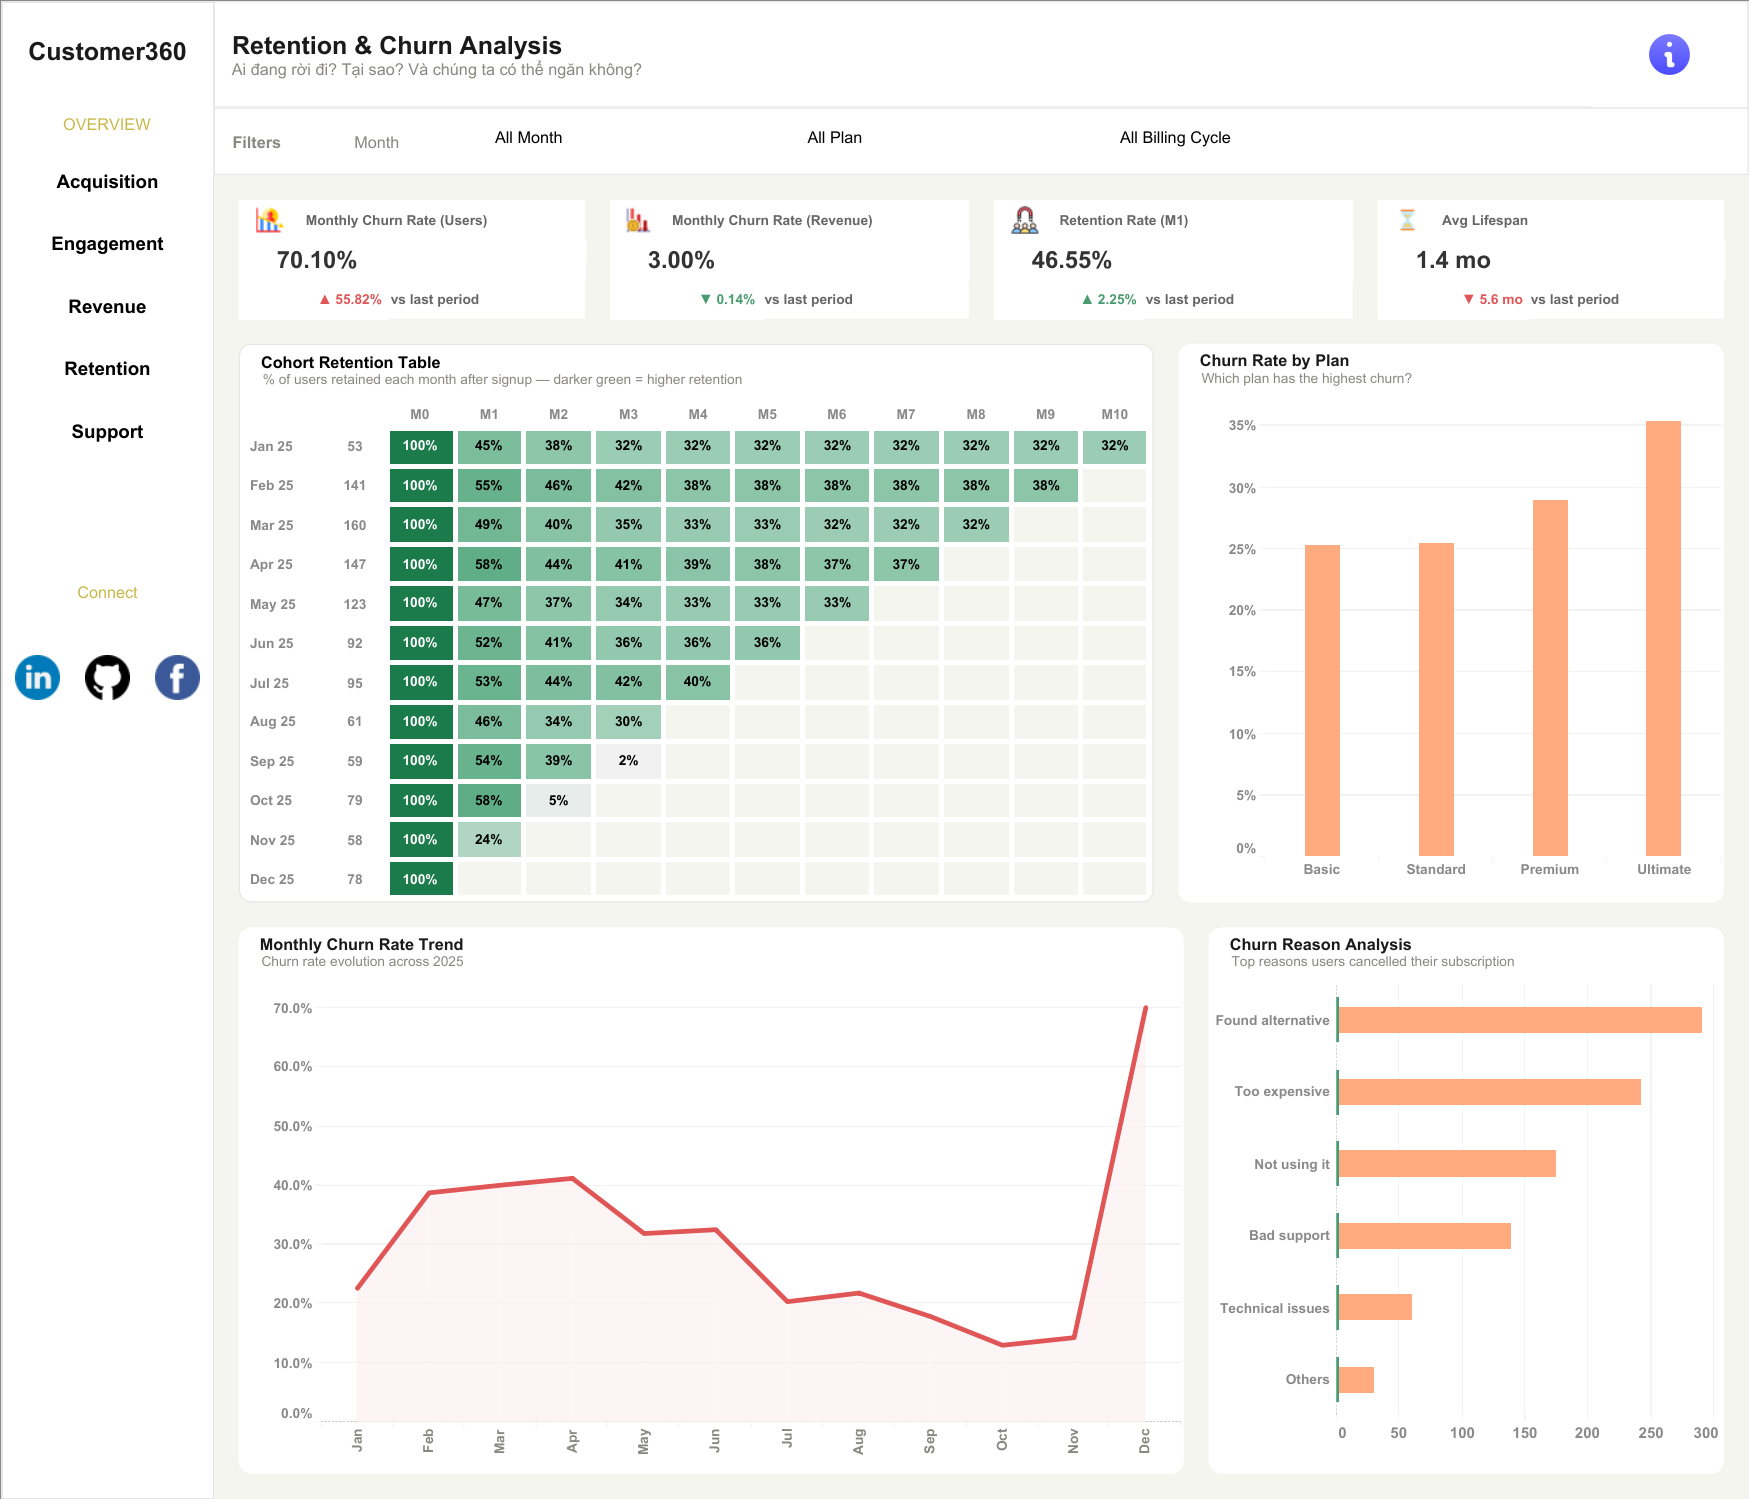

Layout of this report page (visuals, bound fields, positions):
{"tool":"tableau","page":{"name":"DB retention","canvas":[1400,1200],"ordinal":2},"visuals":[{"type":"text","box":[2,2,168,77]},{"type":"text","box":[172,2,1101,83]},{"type":"worksheet","title":"retention info","mark":"Shape","box":[1273,2,125,83]},{"type":"text","box":[2,79,168,41]},{"type":"text","box":[172,87,67,49]},{"type":"text","box":[239,87,125,49]},{"type":"parameter","param":"[Parameters].[Parameter 2]","box":[374,97,250,29]},{"type":"parameter","param":"[Parameters].[Parameter 8]","box":[624,97,250,29]},{"type":"parameter","param":"[Parameters].[Parameter 3]","box":[874,97,250,29]},{"type":"blank","box":[1124,97,264,29]},{"type":"dashboard-object","box":[2,120,168,50]},{"type":"image","param":"Image/user churn.png","box":[191,157,51,32]},{"type":"text","box":[242,157,226,32]},{"type":"image","param":"Image/money churn.png","box":[488,157,47,32]},{"type":"text","box":[535,157,240,32]},{"type":"image","param":"Image/retention rate.png","box":[795,157,50,32]},{"type":"text","box":[845,157,237,32]},{"type":"image","param":"Image/lifespan.png","box":[1102,157,49,32]},{"type":"text","box":[1151,157,228,32]},{"type":"dashboard-object","box":[2,170,168,50]},{"type":"worksheet","title":"p4 kpi churn rate (users)","mark":"Automatic","box":[191,189,277,32]},{"type":"worksheet","title":"p4 kpi churn rate (rev)","mark":"Automatic","box":[488,189,287,32]},{"type":"worksheet","title":"p4 kpi retention m1","mark":"Automatic","box":[795,189,287,32]},{"type":"worksheet","title":"p4 kpi avg lifespan","mark":"Automatic","box":[1102,189,277,32]},{"type":"dashboard-object","box":[2,220,168,50]},{"type":"worksheet","title":"p4 kpi churn rate (users) change","mark":"Automatic","box":[191,221,119,31]},{"type":"text","box":[310,221,158,31]},{"type":"worksheet","title":"p4 kpi churn rate (rev) change","mark":"Automatic","box":[488,221,121,31]},{"type":"text","box":[609,221,166,31]},{"type":"worksheet","title":"p4 kpi retention rate m1 change","mark":"Automatic","box":[795,221,119,31]},{"type":"text","box":[914,221,168,31]},{"type":"worksheet","title":"p4 kpi avg lifespan change","mark":"Automatic","box":[1102,221,120,31]},{"type":"text","box":[1222,221,157,31]},{"type":"worksheet","title":"p4 chart cohort retention","mark":"Automatic","rows":["Calculation_0237544653815810","Calculation_0354642895933455"],"cols":["months_since_start"],"box":[171,262,762,469]},{"type":"worksheet","title":"p4 chart plan churn rate","mark":"Bar","rows":["Calculation_0161405872529424","Calculation_0161405872664594"],"cols":["plan_name"],"box":[933,262,466,469]},{"type":"dashboard-object","box":[2,270,168,50]},{"type":"dashboard-object","box":[2,320,168,50]},{"type":"blank","box":[2,370,168,63]},{"type":"text","box":[2,433,168,80]},{"type":"image","param":"Image/linkedin.png","box":[2,513,56,58]},{"type":"image","param":"Image/github.png","box":[58,513,56,58]},{"type":"image","param":"Image/facebook.png","box":[114,513,56,58]},{"type":"blank","box":[2,571,168,627]},{"type":"worksheet","title":"p4 chart monthly churn rate","mark":"Area","rows":["Calculation_0354642878930945","Calculation_0354642878930945"],"cols":["current_month"],"box":[171,731,786,468]},{"type":"worksheet","title":"p4 chart churn reason breakdown","mark":"Bar","rows":["churn_reason"],"cols":["Calculation_0161405864542221","Calculation_0161405865107471"],"box":[957,731,442,468]}]}

Visuals, with their boxes in screenshot pixels (x1, y1, x2, y2), scaled from the page's 1400x1200 canvas onto the 1749x1499 screenshot:
text: (x1=2, y1=2, x2=212, y2=99)
text: (x1=215, y1=2, x2=1590, y2=106)
"retention info" worksheet (Shape marks): (x1=1590, y1=2, x2=1747, y2=106)
text: (x1=2, y1=99, x2=212, y2=150)
text: (x1=215, y1=109, x2=299, y2=170)
text: (x1=299, y1=109, x2=455, y2=170)
parameter: (x1=467, y1=121, x2=780, y2=157)
parameter: (x1=780, y1=121, x2=1092, y2=157)
parameter: (x1=1092, y1=121, x2=1404, y2=157)
blank: (x1=1404, y1=121, x2=1734, y2=157)
dashboard-object: (x1=2, y1=150, x2=212, y2=212)
image: (x1=239, y1=196, x2=302, y2=236)
text: (x1=302, y1=196, x2=585, y2=236)
image: (x1=610, y1=196, x2=668, y2=236)
text: (x1=668, y1=196, x2=968, y2=236)
image: (x1=993, y1=196, x2=1056, y2=236)
text: (x1=1056, y1=196, x2=1352, y2=236)
image: (x1=1377, y1=196, x2=1438, y2=236)
text: (x1=1438, y1=196, x2=1723, y2=236)
dashboard-object: (x1=2, y1=212, x2=212, y2=275)
"p4 kpi churn rate (users)" worksheet: (x1=239, y1=236, x2=585, y2=276)
"p4 kpi churn rate (rev)" worksheet: (x1=610, y1=236, x2=968, y2=276)
"p4 kpi retention m1" worksheet: (x1=993, y1=236, x2=1352, y2=276)
"p4 kpi avg lifespan" worksheet: (x1=1377, y1=236, x2=1723, y2=276)
dashboard-object: (x1=2, y1=275, x2=212, y2=337)
"p4 kpi churn rate (users) change" worksheet: (x1=239, y1=276, x2=387, y2=315)
text: (x1=387, y1=276, x2=585, y2=315)
"p4 kpi churn rate (rev) change" worksheet: (x1=610, y1=276, x2=761, y2=315)
text: (x1=761, y1=276, x2=968, y2=315)
"p4 kpi retention rate m1 change" worksheet: (x1=993, y1=276, x2=1142, y2=315)
text: (x1=1142, y1=276, x2=1352, y2=315)
"p4 kpi avg lifespan change" worksheet: (x1=1377, y1=276, x2=1527, y2=315)
text: (x1=1527, y1=276, x2=1723, y2=315)
"p4 chart cohort retention" worksheet: (x1=214, y1=327, x2=1166, y2=913)
"p4 chart plan churn rate" worksheet (Bar marks): (x1=1166, y1=327, x2=1748, y2=913)
dashboard-object: (x1=2, y1=337, x2=212, y2=400)
dashboard-object: (x1=2, y1=400, x2=212, y2=462)
blank: (x1=2, y1=462, x2=212, y2=541)
text: (x1=2, y1=541, x2=212, y2=641)
image: (x1=2, y1=641, x2=72, y2=713)
image: (x1=72, y1=641, x2=142, y2=713)
image: (x1=142, y1=641, x2=212, y2=713)
blank: (x1=2, y1=713, x2=212, y2=1497)
"p4 chart monthly churn rate" worksheet (Area marks): (x1=214, y1=913, x2=1196, y2=1498)
"p4 chart churn reason breakdown" worksheet (Bar marks): (x1=1196, y1=913, x2=1748, y2=1498)
